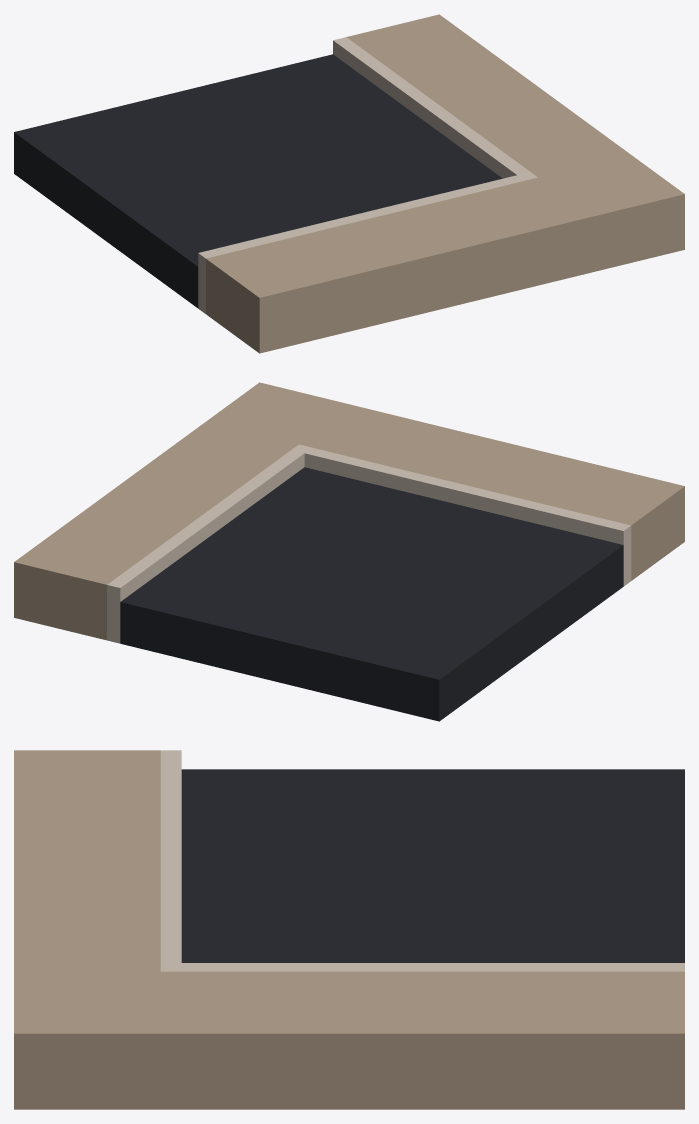
The model's file is road8.obj.
3 views of the same model, one above another, from view 1: azimuth 30°, elevation 25°; view 2: azimuth 150°, elevation 25°; view 3: azimuth 270°, elevation 25° (orthographic). The views are drawn at different scales.
Size of the model in its own units: 3.2 by 0.4 by 3.2.
1 material, 1 textured.
